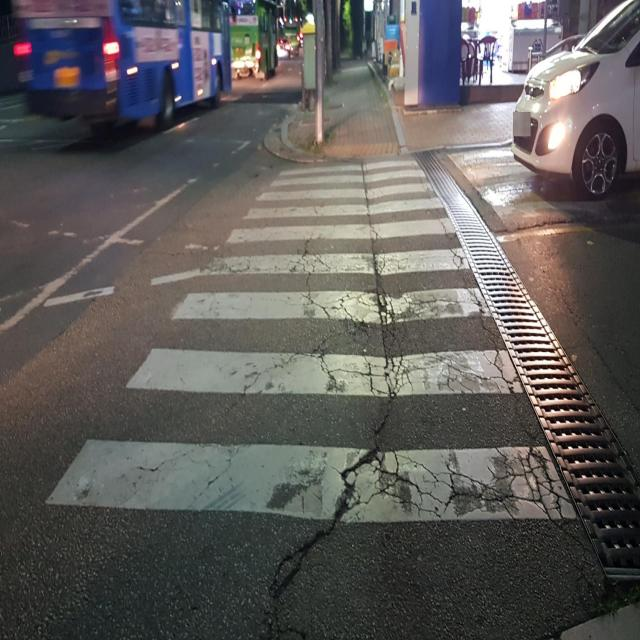횡단보도: (44, 158, 580, 530)
